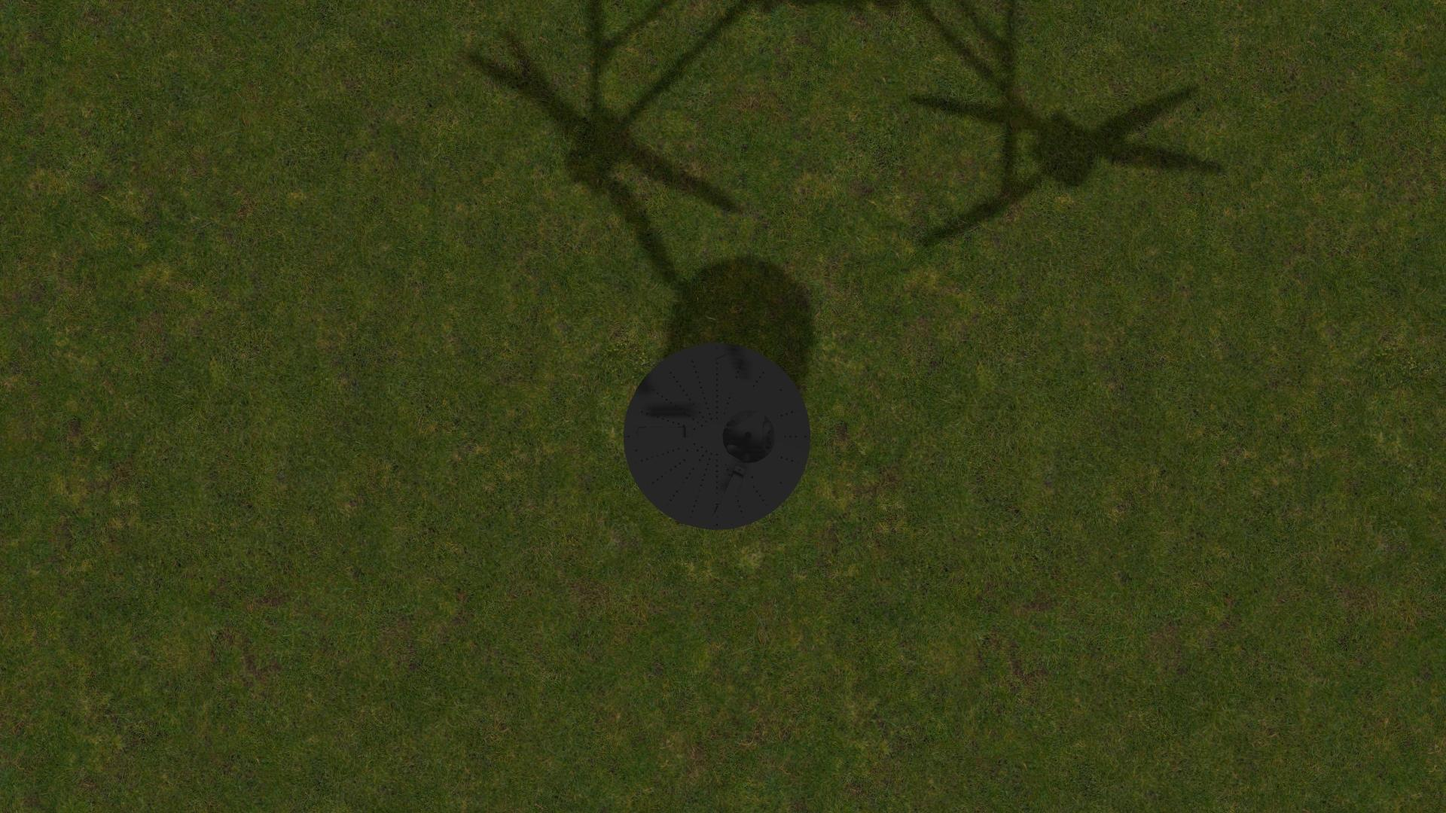alca: (712, 465, 746, 522), (714, 350, 747, 406), (633, 426, 692, 439)
armadilha: (623, 342, 810, 530)
